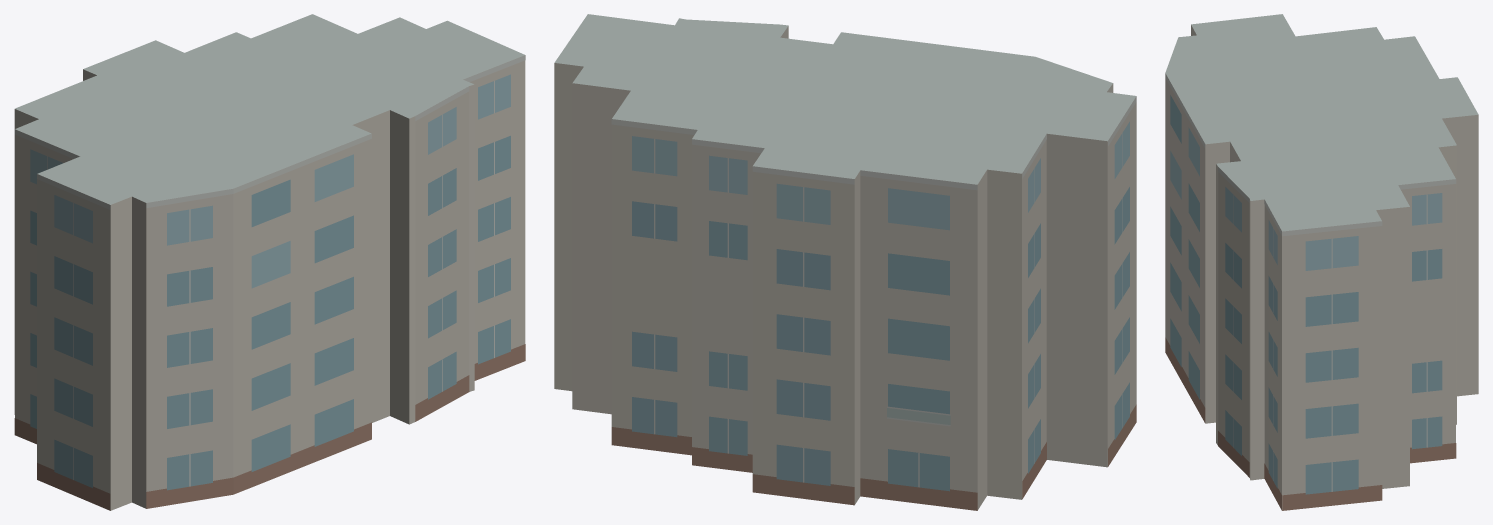
Rendered from survey-upis-32640122.glb.
3 renders of one model, left to right at view 1: azimuth 30°, elevation 25°; view 2: azimuth 150°, elevation 25°; view 3: azimuth 270°, elevation 25°, orthographic. The views are drawn at different scales.
Parts seen in each view (by area): view 1: survey-upis-32640122.tmp; view 2: survey-upis-32640122.tmp; view 3: survey-upis-32640122.tmp.
Boxes of the visible parts, x1=… form: survey-upis-32640122.tmp: x1=14, y1=14, x2=525, y2=510; survey-upis-32640122.tmp: x1=554, y1=14, x2=1136, y2=510; survey-upis-32640122.tmp: x1=1165, y1=14, x2=1478, y2=510.
Size of the model in its own units: 23.88 by 14.3 by 14.55.
